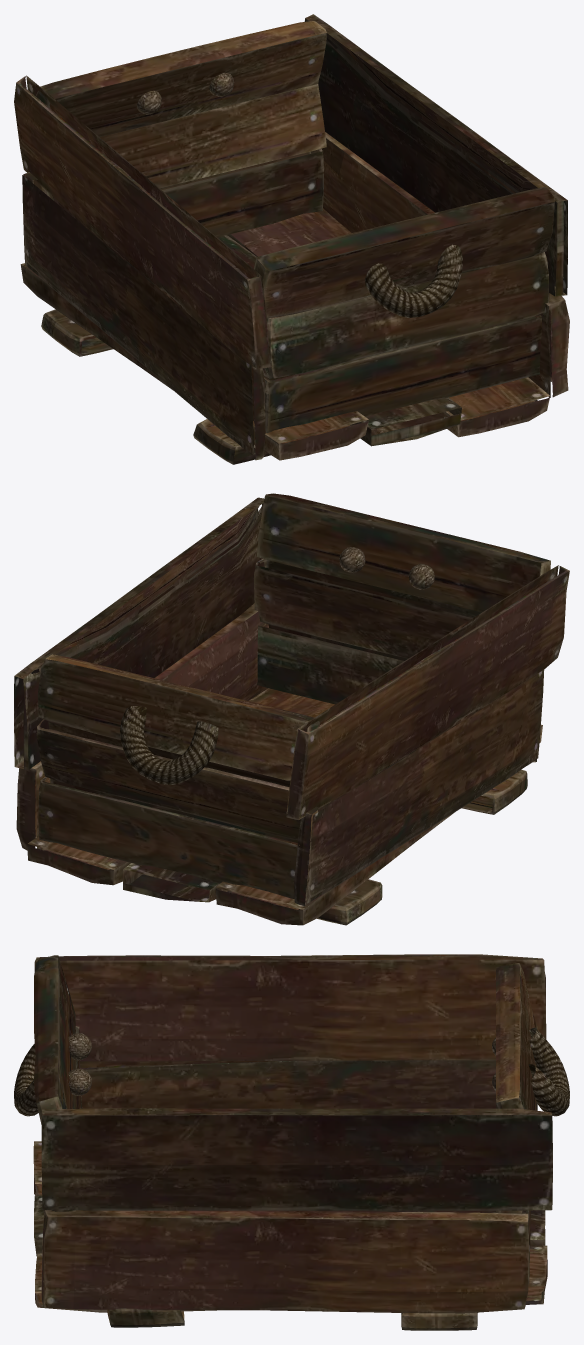
The picture shows the model from 3 angles, top to bottom: view 1: azimuth 30°, elevation 25°; view 2: azimuth 150°, elevation 25°; view 3: azimuth 270°, elevation 25°; orthographic projection. The views are drawn at different scales.
Visible parts, largest first — view 1: SM_Dec_Garou_Crate_02_LOD0; view 2: SM_Dec_Garou_Crate_02_LOD0; view 3: SM_Dec_Garou_Crate_02_LOD0.
Boxes of the visible parts, x1,y1,x2,y2 form: SM_Dec_Garou_Crate_02_LOD0: [14, 14, 569, 464]; SM_Dec_Garou_Crate_02_LOD0: [14, 493, 569, 925]; SM_Dec_Garou_Crate_02_LOD0: [14, 954, 569, 1330].
Size of the model in its own units: 0.6922 by 0.4465 by 0.9929.
Materials: 1 (1 with a texture image).
